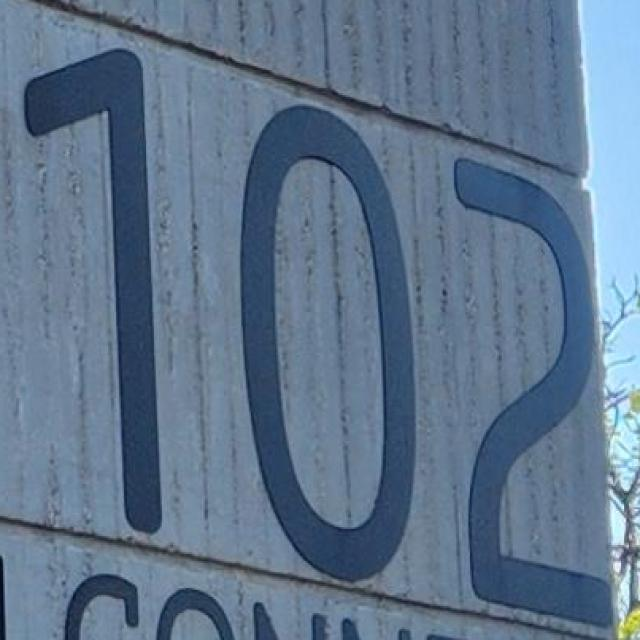character: (228, 95, 422, 592), (449, 149, 623, 637), (16, 42, 174, 544)
